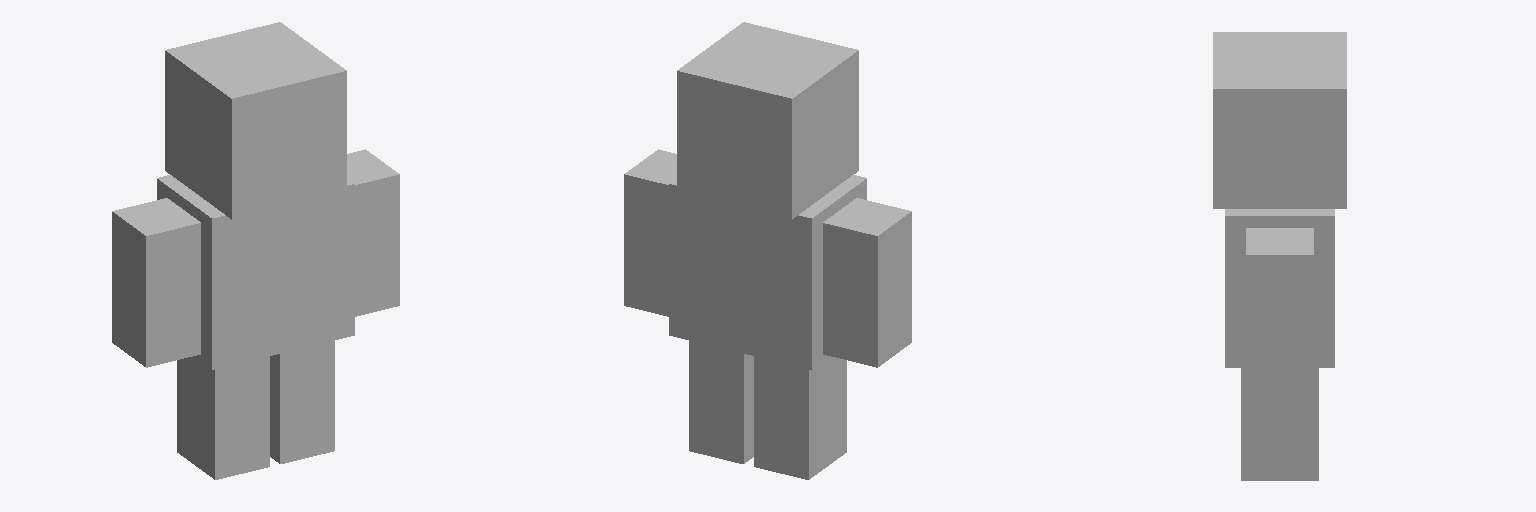
File: HumanLowPoly.obj
The picture shows the model from 3 angles: view 1: azimuth 30°, elevation 25°; view 2: azimuth 150°, elevation 25°; view 3: azimuth 270°, elevation 25°; orthographic projection.
Parts seen in each view (by area): view 1: Human_Cube.001; view 2: Human_Cube.001; view 3: Human_Cube.001.
Part boxes in pixels (bbox=[...]): Human_Cube.001: bbox=[112, 22, 399, 479]; Human_Cube.001: bbox=[624, 22, 911, 479]; Human_Cube.001: bbox=[1213, 32, 1346, 480].
Bounding box in the file's own units: 0.9192 × 1.35 × 0.4184.